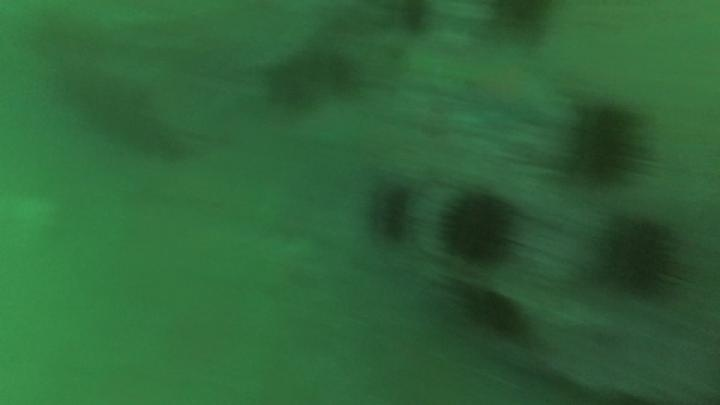echinus: (562, 97, 650, 190), (594, 211, 685, 300), (263, 44, 357, 116), (437, 187, 521, 267), (363, 177, 418, 247), (464, 287, 530, 341), (484, 1, 556, 44)
starfish: (460, 48, 566, 129)
